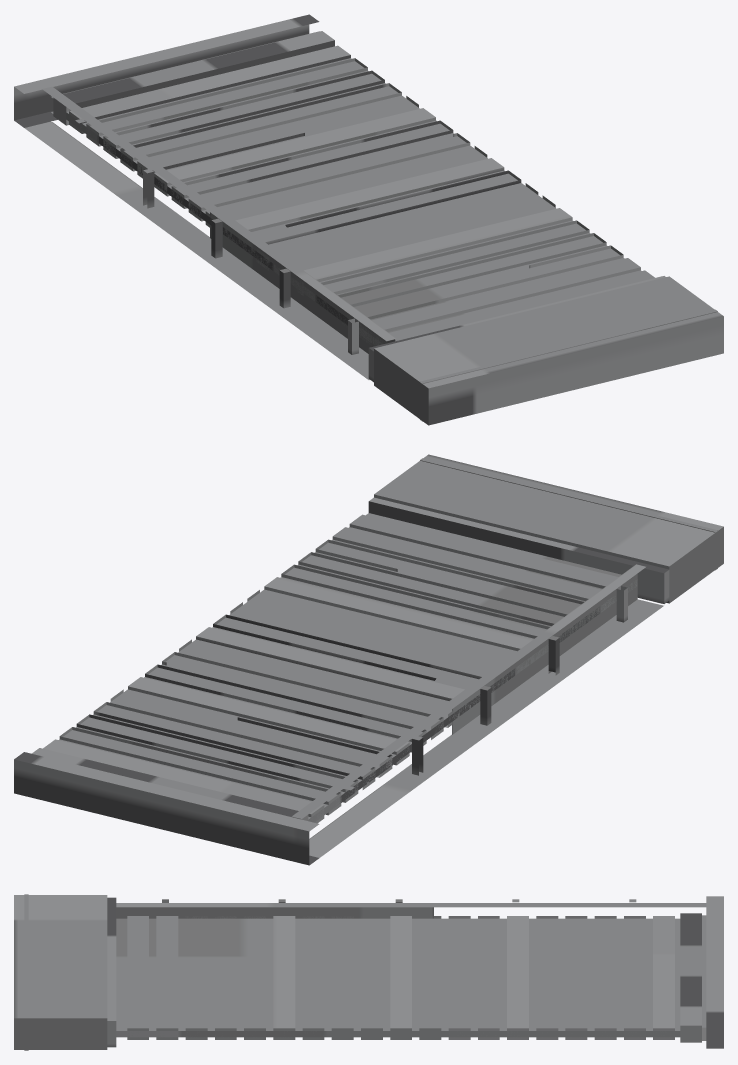
3 renders of one model, top to bottom at view 1: azimuth 30°, elevation 25°; view 2: azimuth 150°, elevation 25°; view 3: azimuth 270°, elevation 25°, orthographic. The views are drawn at different scales.
Bounding box in the file's own units: 1 × 0.124 × 2.43.
